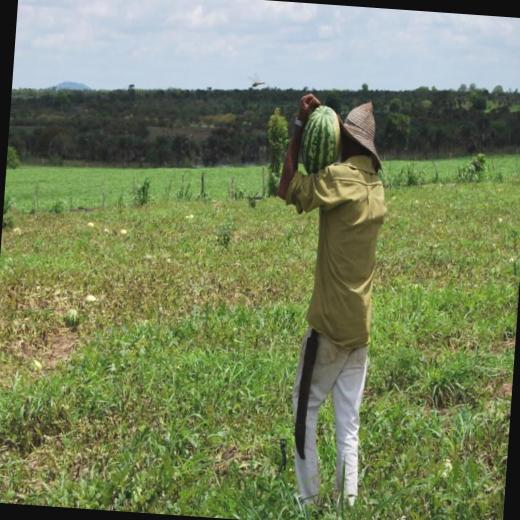Cherry: (298, 104, 344, 176)
